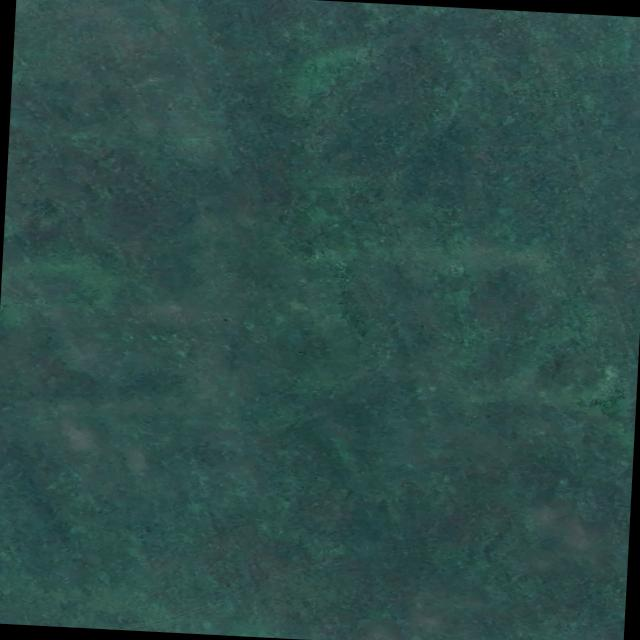grass: (1, 0, 640, 385), (0, 323, 636, 640)
